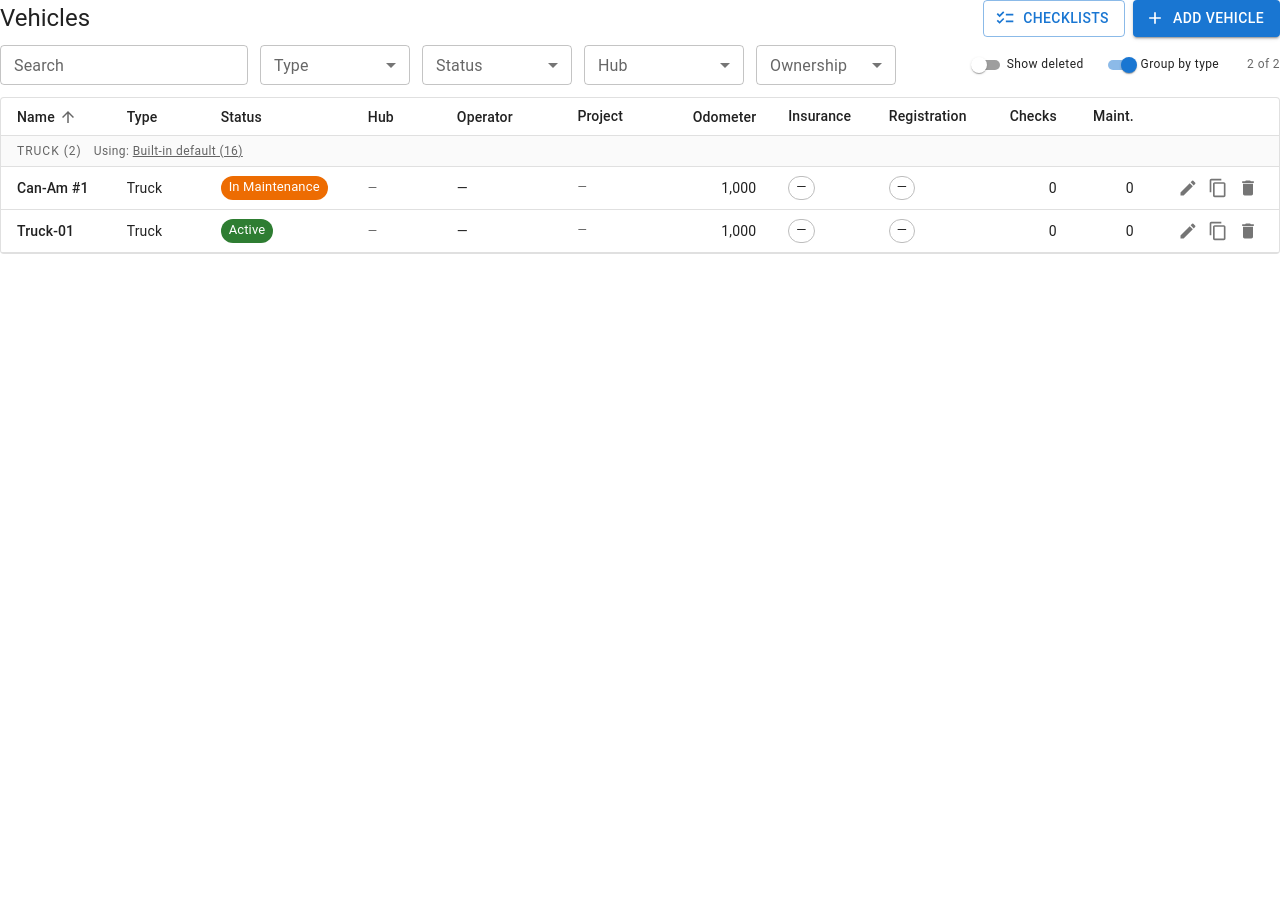
Test case: vehicles — Delete, Undo, Show deleted → Restore, ?status= › a refused Delete closes the dialog and the red toast names what is in the way
Expected: the text "Truck-01" is shown, [17,221,74,241]
Click the button named "Delete" in the row of "Truck-01".
click(1248, 231)  # box [1233,216,1263,246]
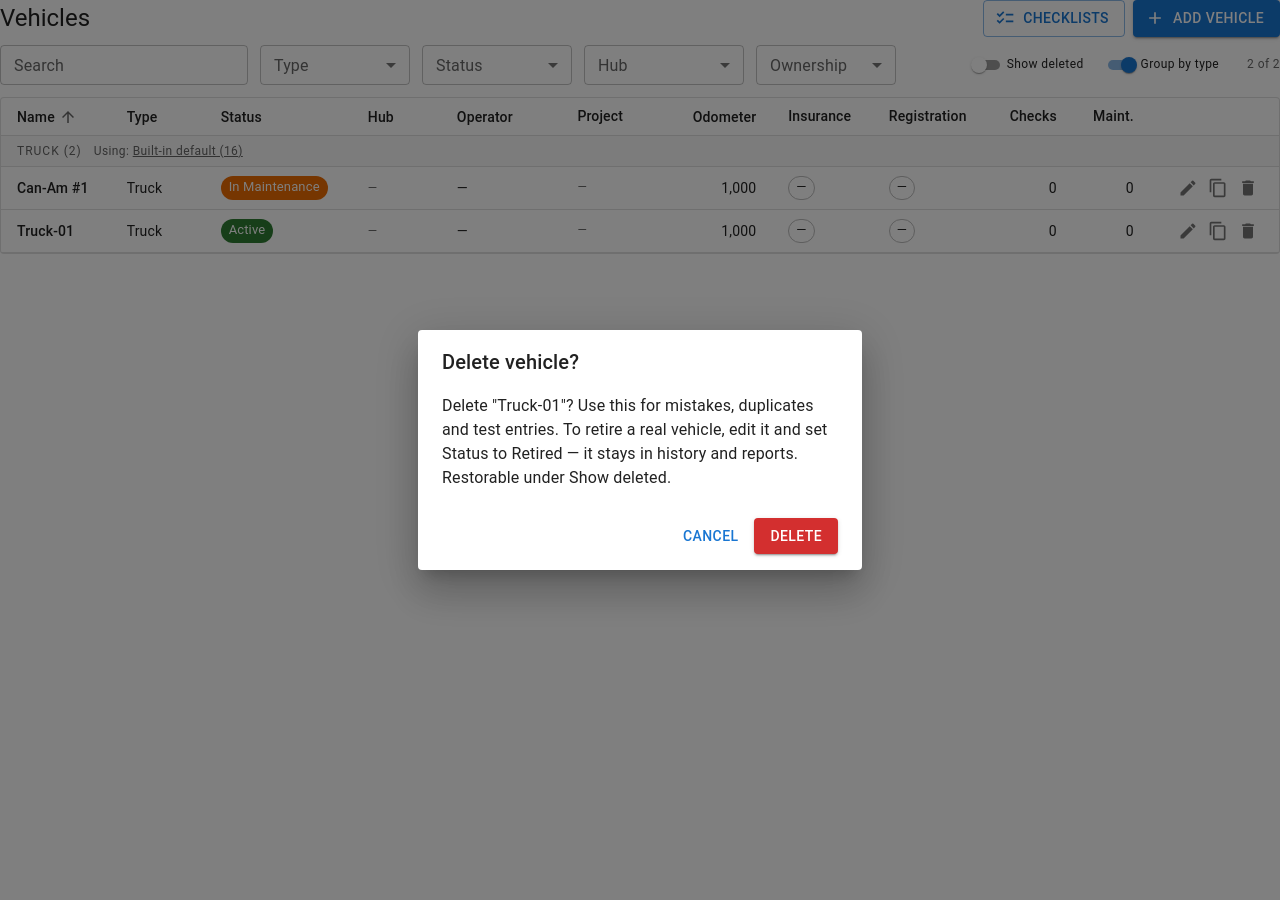
Expected: the dialog "Delete vehicle?" does not show "can.t be undone", [418,330,862,570]
Now the dialog "Delete vehicle?" shows "Restorable under Show deleted.", box [442,396,827,487]
Click the button "Delete".
click(796, 536)  # box [754,518,838,554]
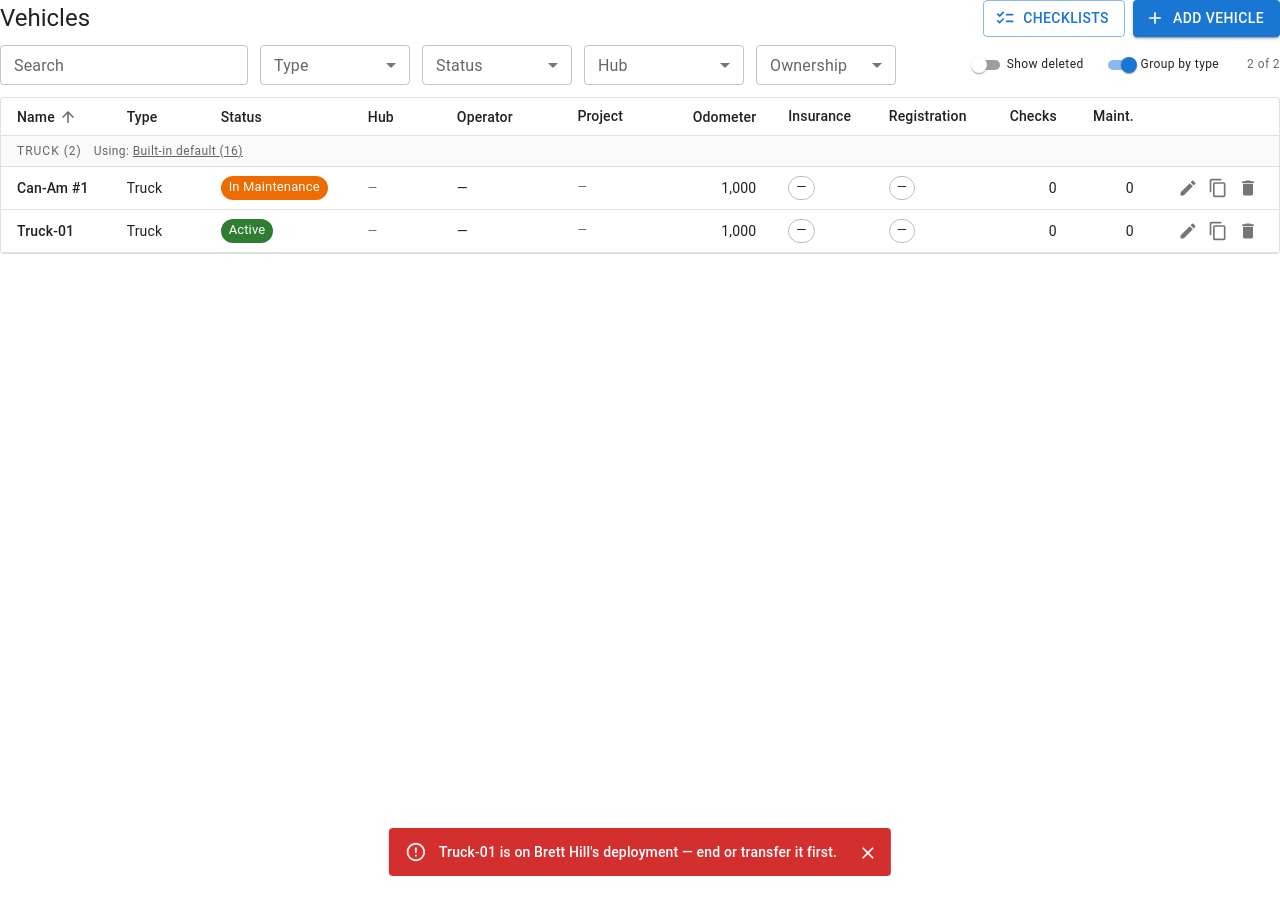
Now the heading "Delete vehicle?" is gone
